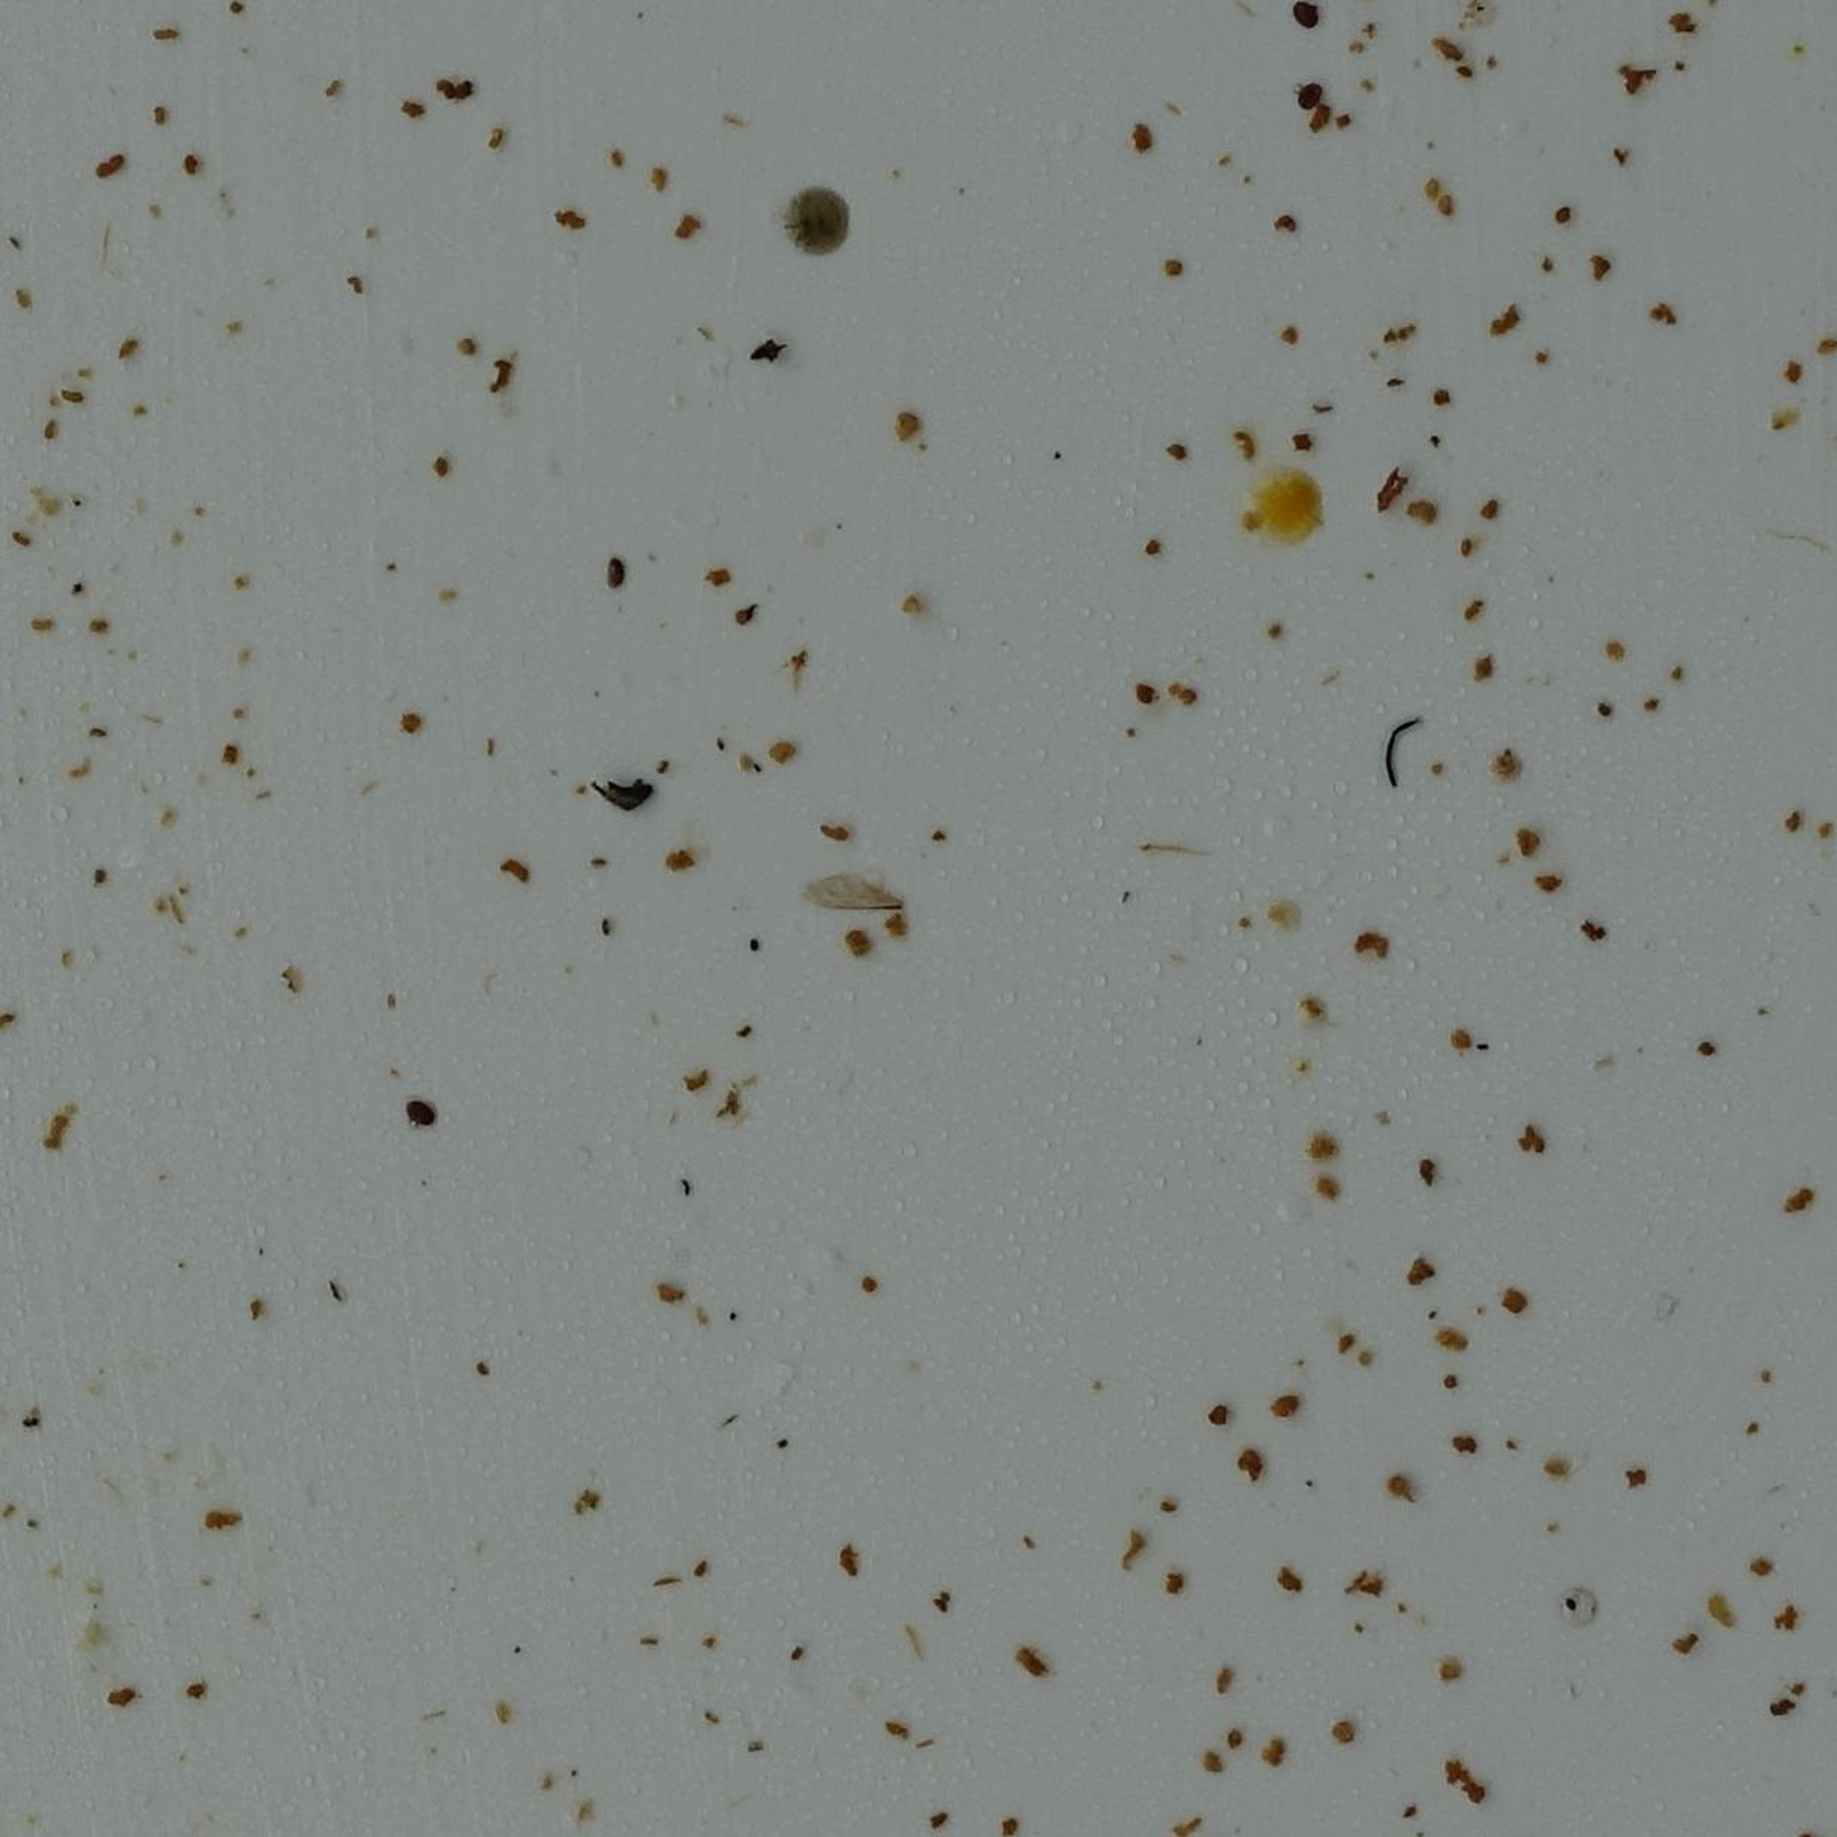Varroa: (601, 555, 631, 589), (407, 1100, 437, 1130), (1295, 82, 1321, 109), (1290, 12, 1316, 35)
